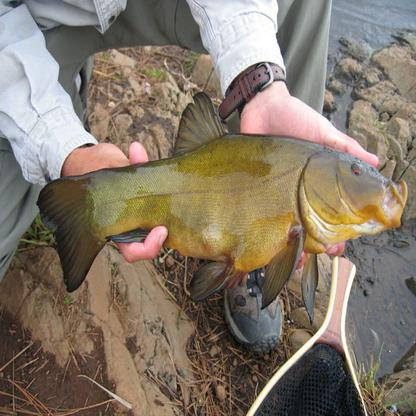fish: (38, 133, 408, 290)
